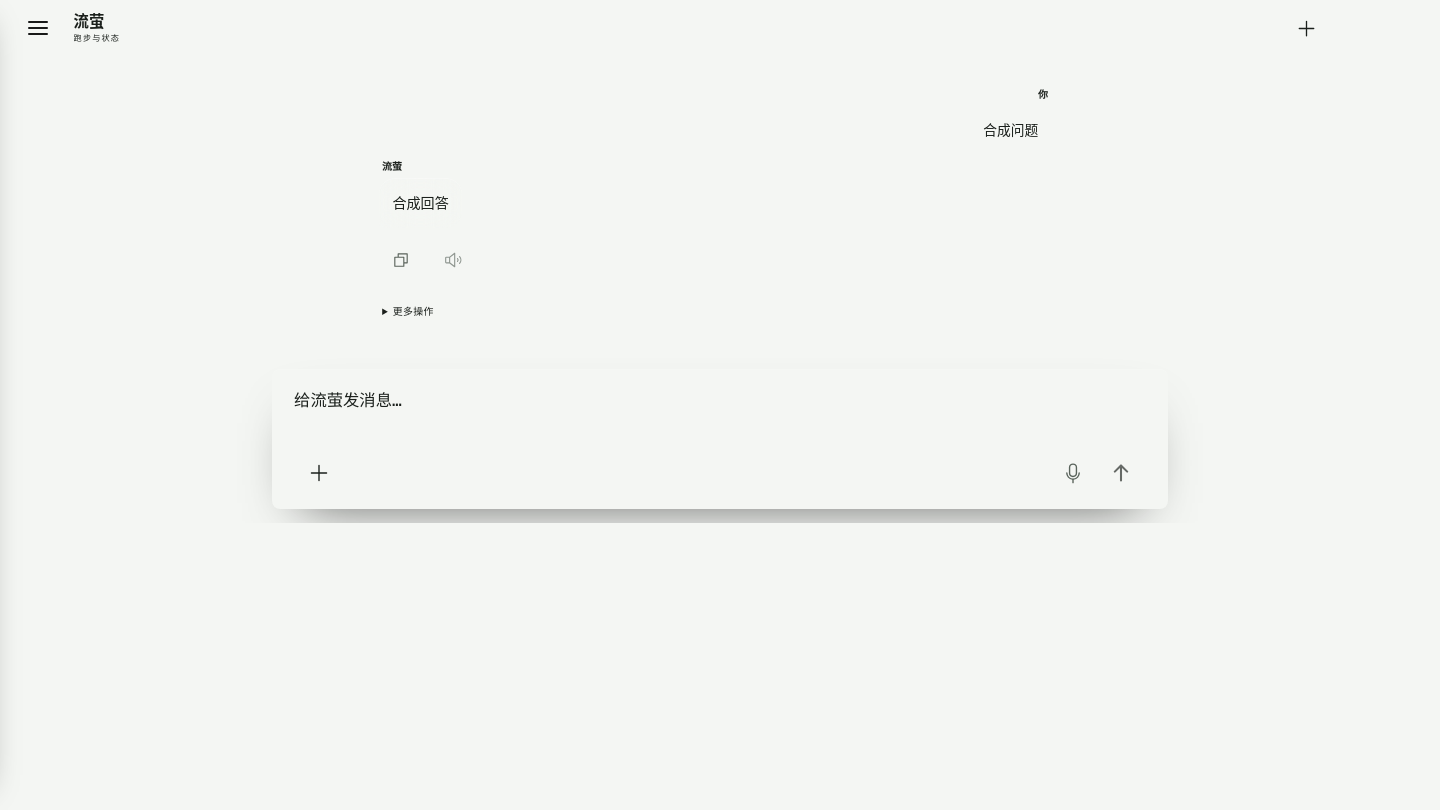
Test: 会话管理 B 保留两组玻璃操作、行内重命名和删除确认
The image size is (1440, 810).
Expected: the text "合成回答" is shown, [392,190,449,216]
Click the button named "打开侧边栏" at (38, 28), box [16,6,60,50]
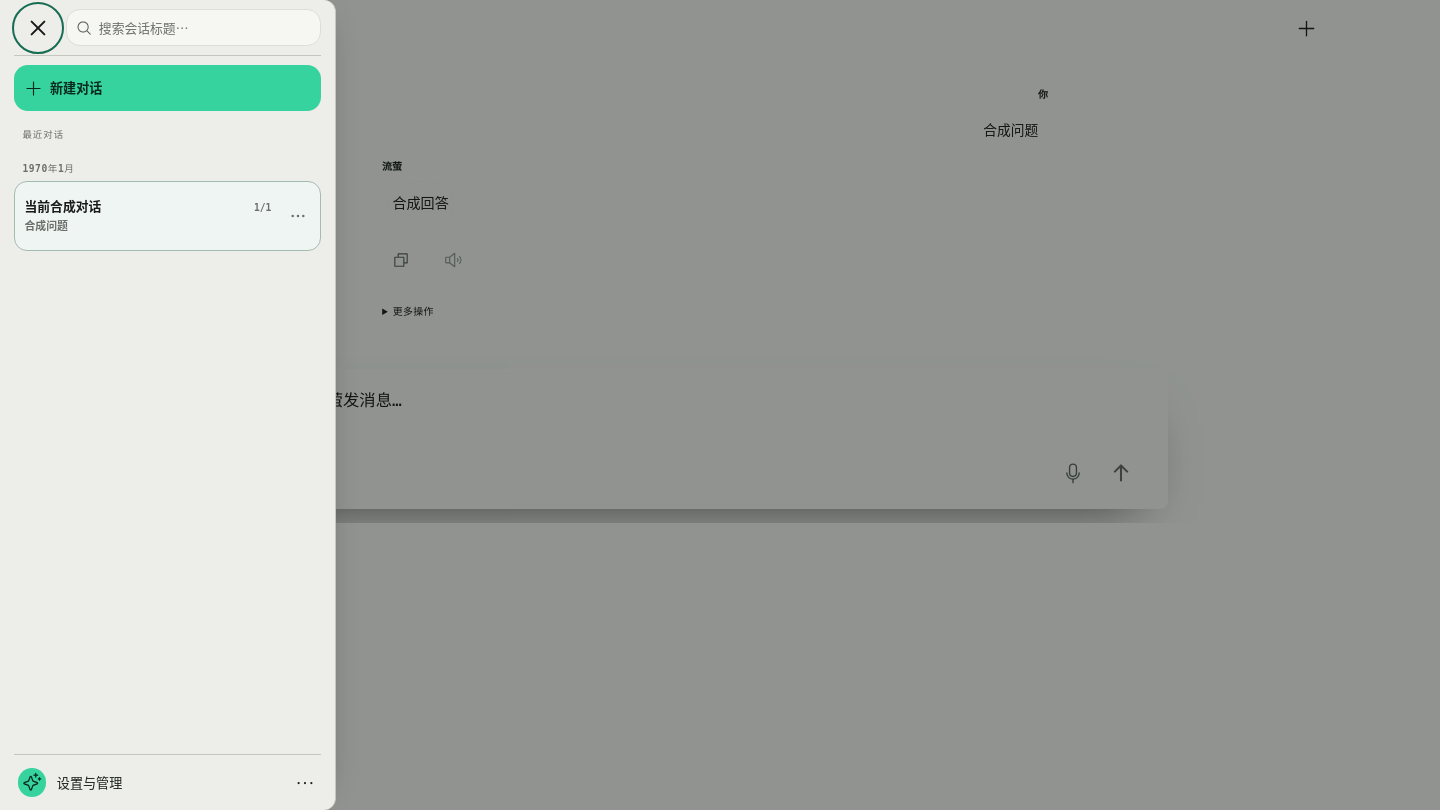
Click the button named "管理对话：当前合成对话" at (298, 216), box [276,194,320,238]
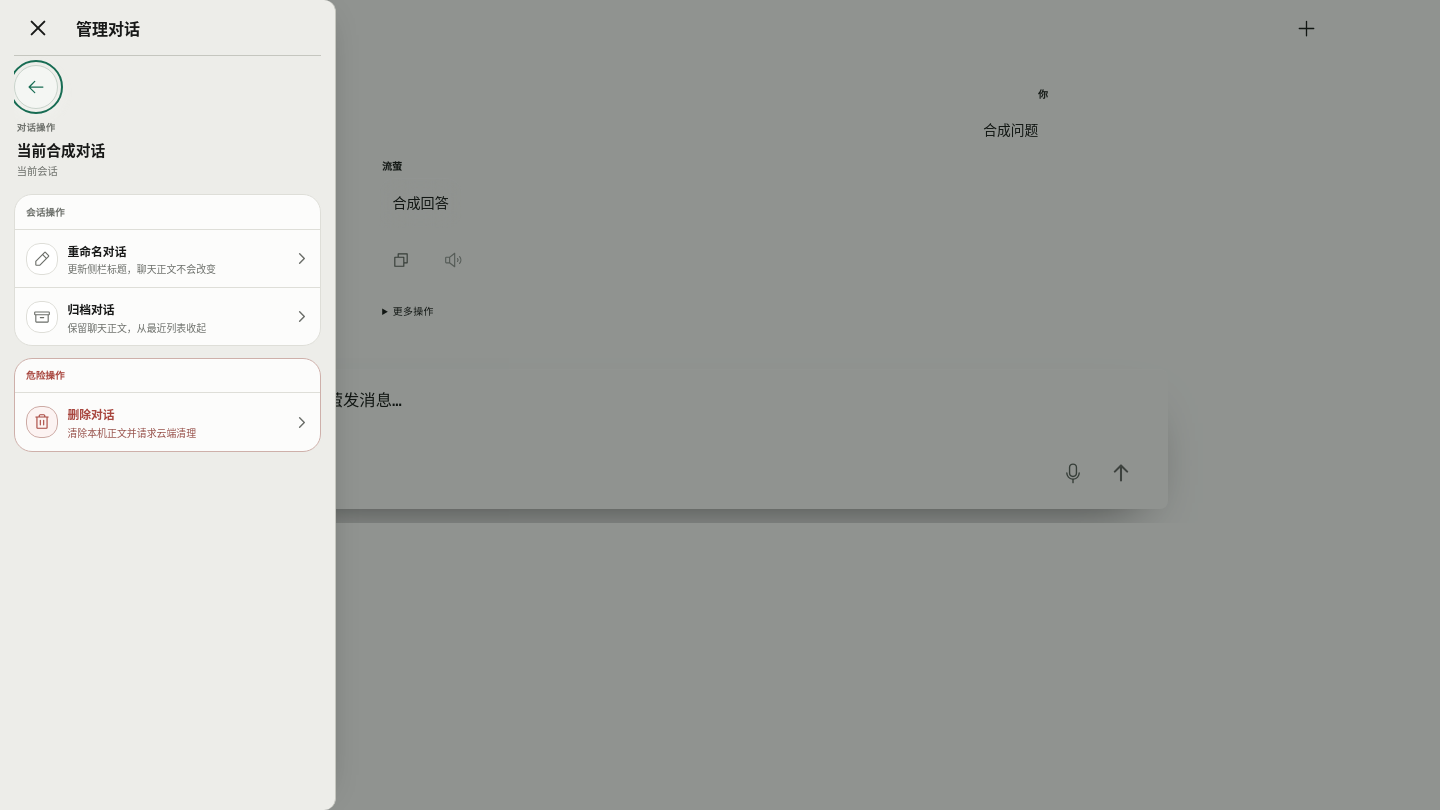
Now the element with test id "conversation-operation-b" is shown, box [14,56,321,465]
Now the element "会话操作" is shown, box [14,194,321,346]
Now the element "危险操作" is shown, box [14,358,321,452]
Click the button "重命名对话 更新侧栏标题，聊天正文不会改变" at (168, 259), box [15,230,320,287]
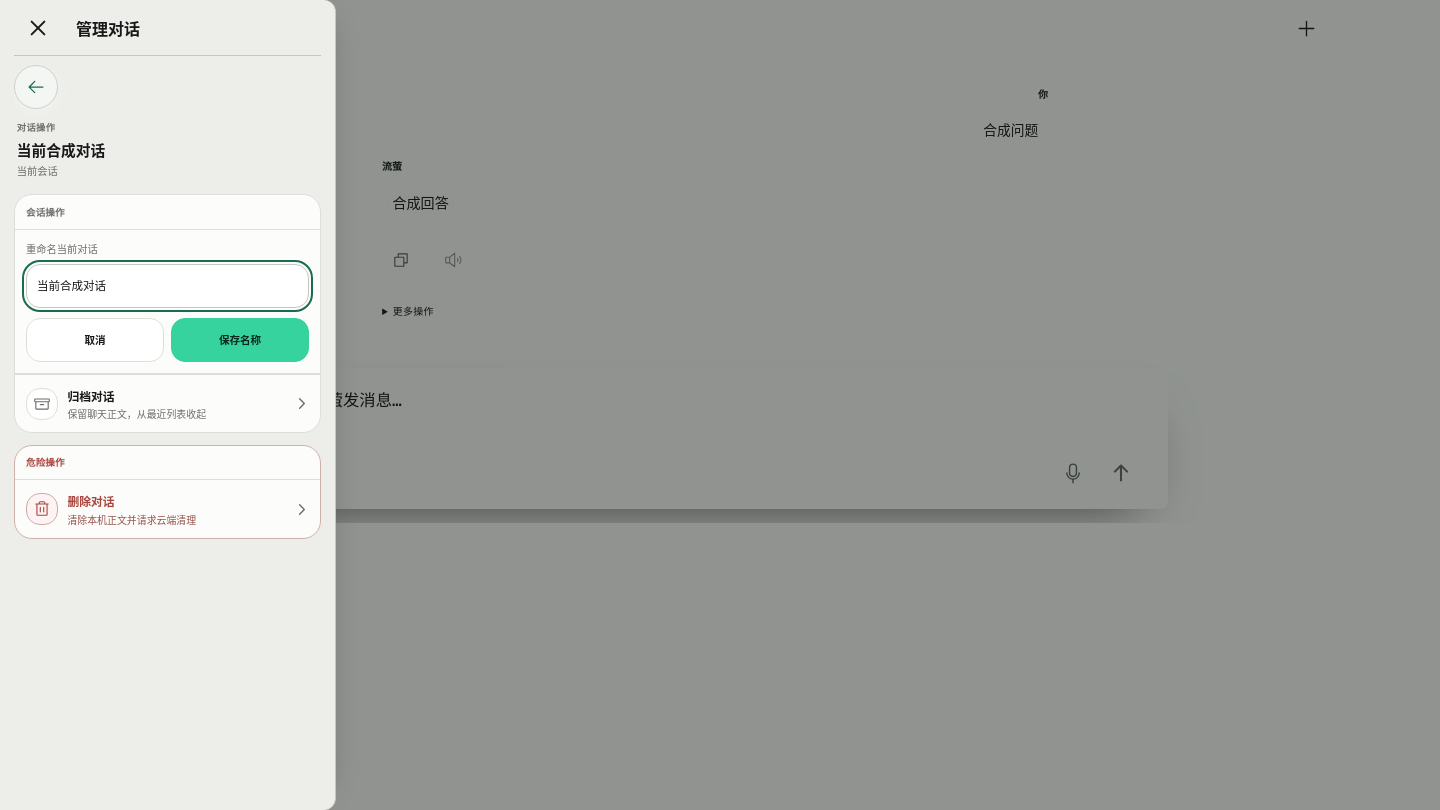
Replace the text in the field labelled "重命名当前对话" with "恢复跑安排" at (168, 286), box [26,264,309,308]
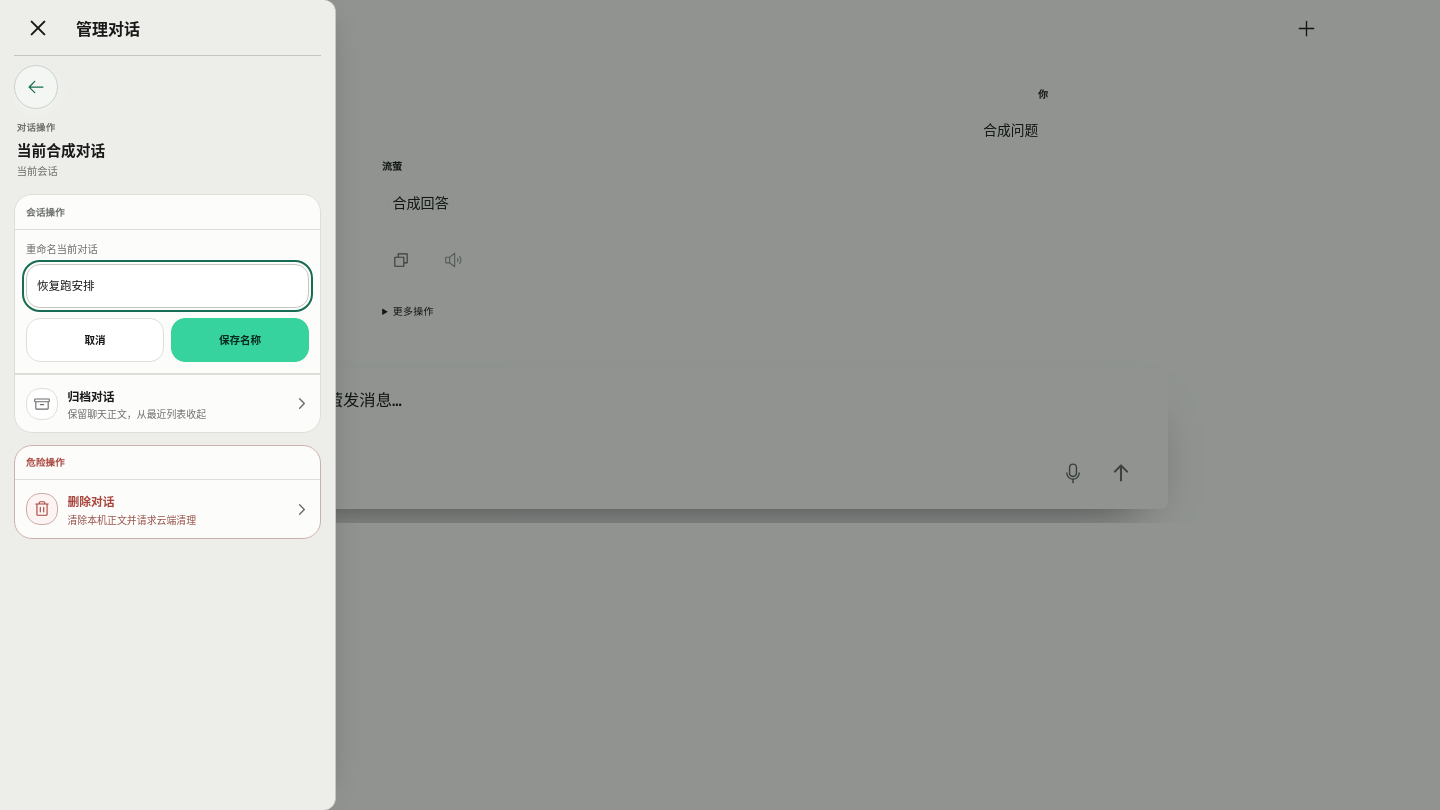
Click the button "保存名称" at (240, 340), box [171,318,309,362]
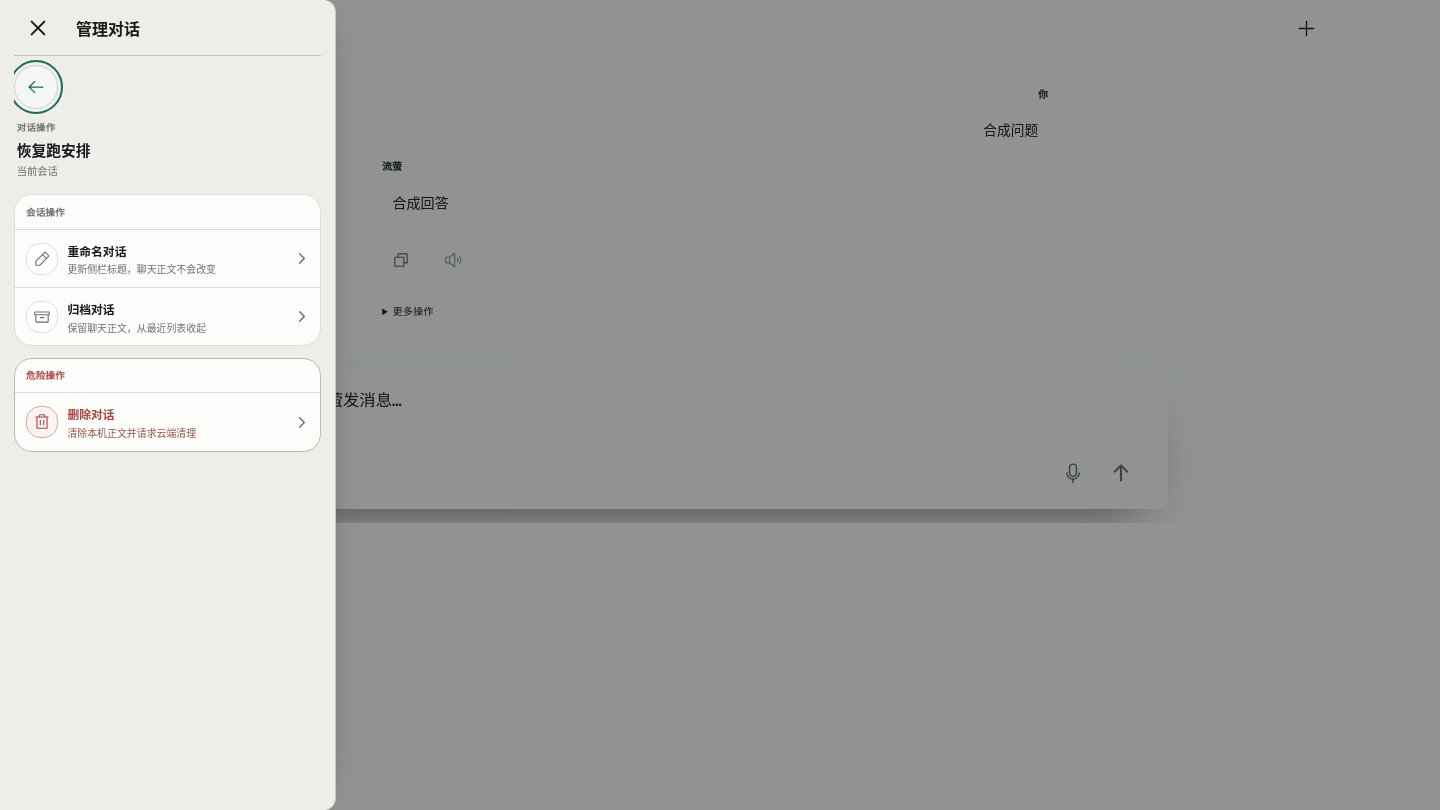
Now the heading "恢复跑安排" is shown, box [17,139,90,160]
Click the button "删除对话 清除本机正文并请求云端清理" at (168, 422), box [15,393,320,451]
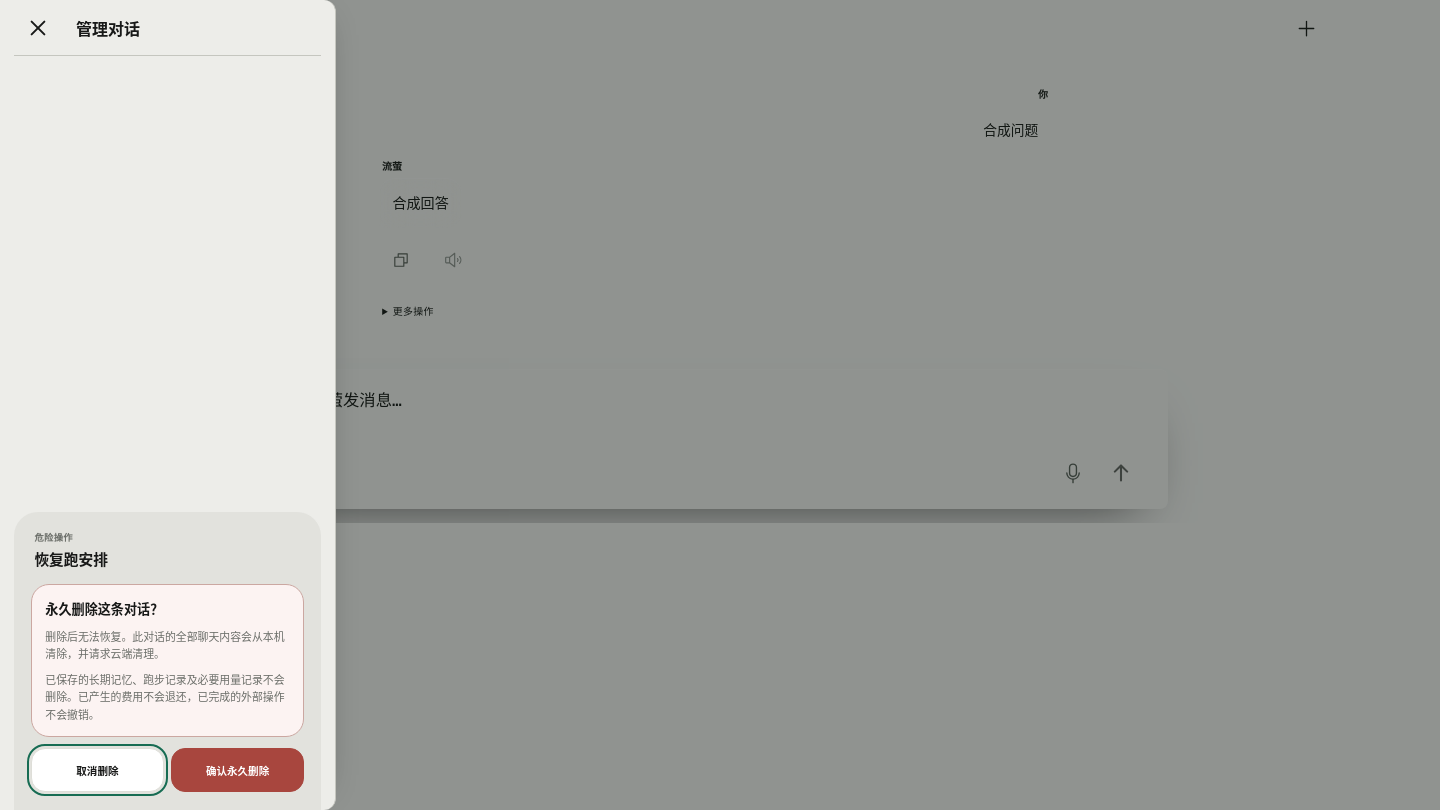
Now the element named "确认删除对话" is shown, box [14,512,321,809]
